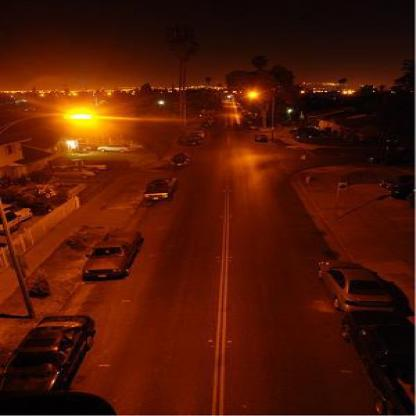other: (37, 84, 116, 144), (235, 84, 268, 104)
